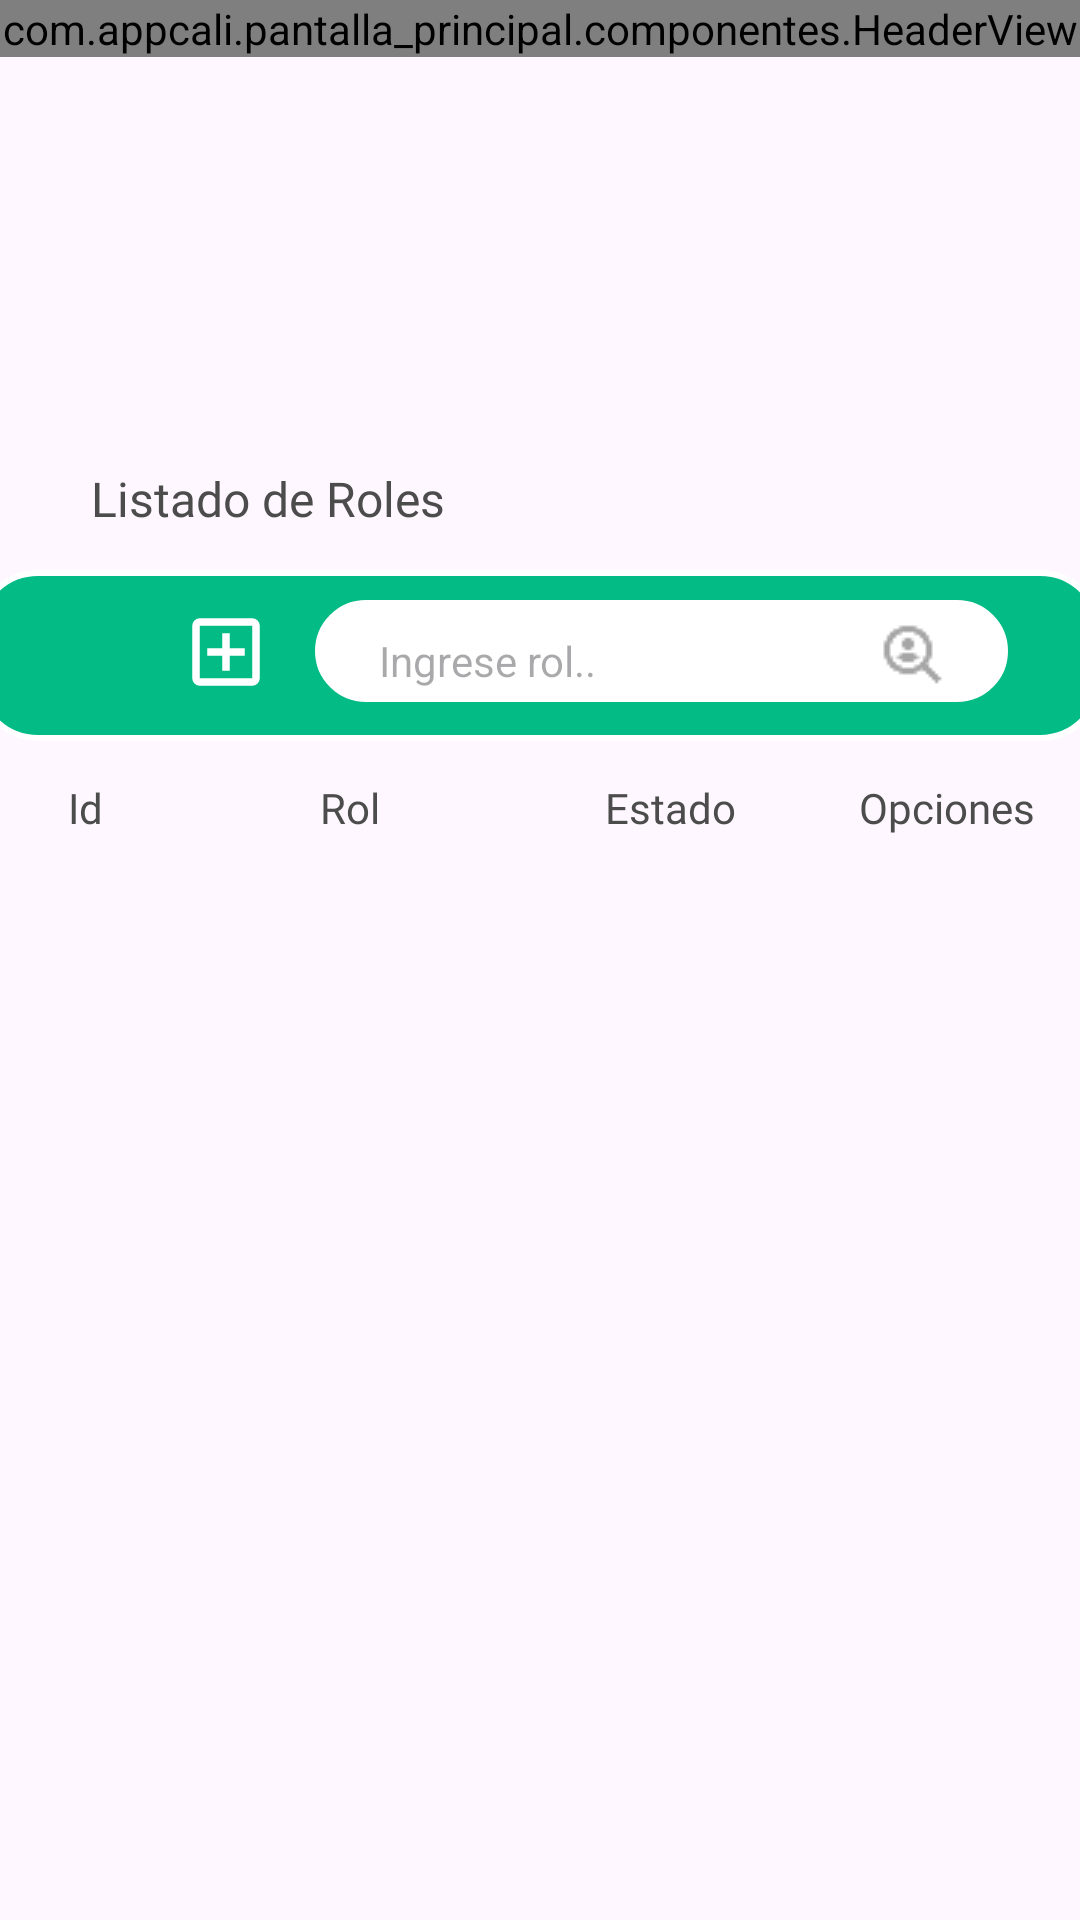

Named icons in this screenshot (1080×1920) and their centers, (x,y):
add box: (226,652)
lupa: (911,656)
